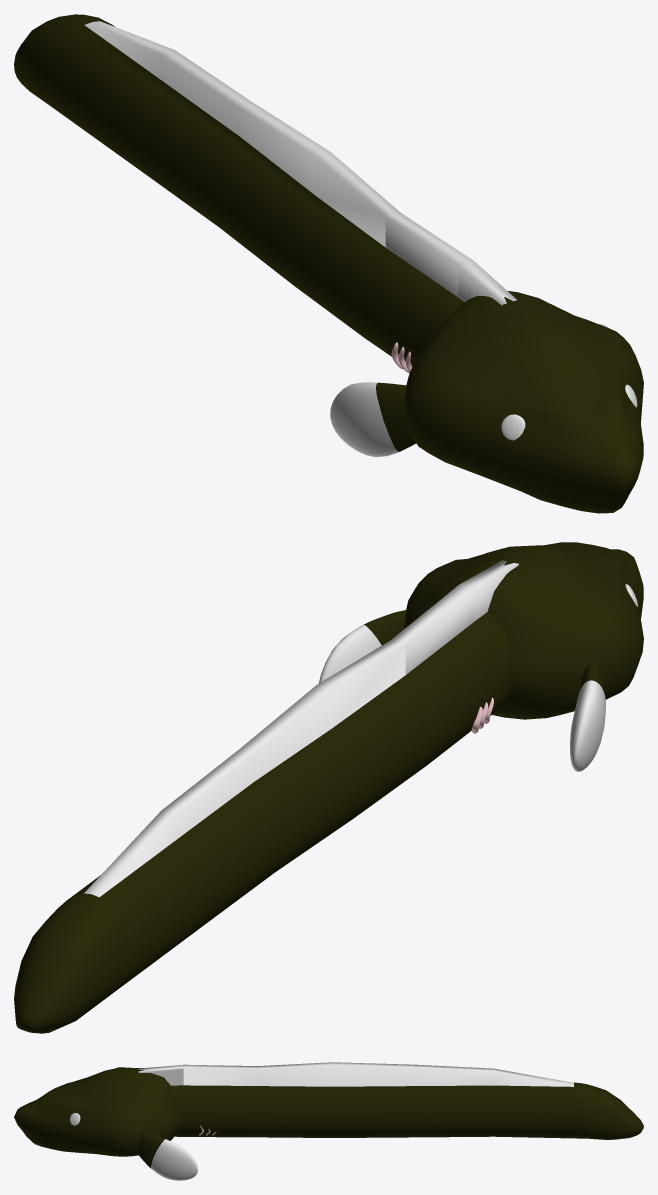
Rendered from Eel_Rig.fbx.
3 views of the same model, one above another, from view 1: azimuth 30°, elevation 25°; view 2: azimuth 150°, elevation 25°; view 3: azimuth 270°, elevation 25° (orthographic). The views are drawn at different scales.
Parts seen in each view (by area): view 1: Cylinder; view 2: Cylinder; view 3: Cylinder.
Boxes of the visible parts, <box> form: Cylinder: <box>14,14,643,513</box>; Cylinder: <box>14,542,643,1033</box>; Cylinder: <box>14,1062,643,1180</box>.
Bounding box in the file's own units: 328 × 192 × 1298.
